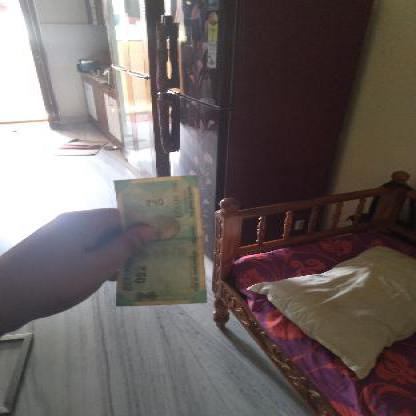New50Front: (113, 179, 208, 302)
